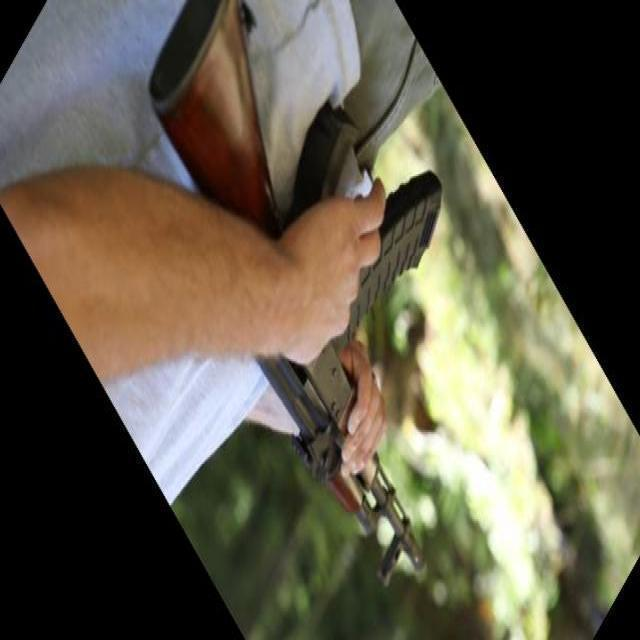Rifle: (146, 0, 442, 586)
